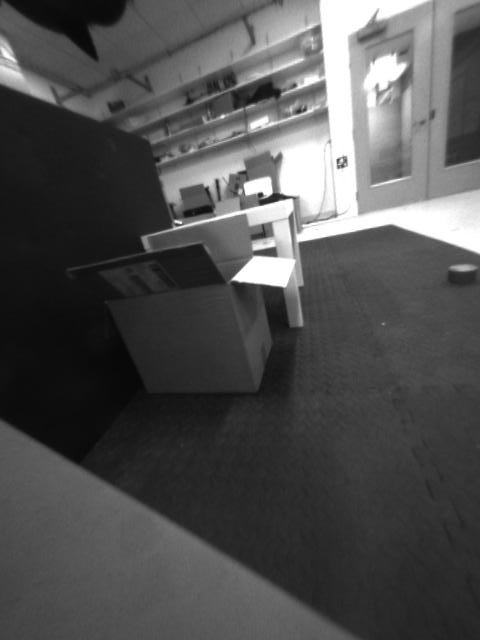dogtoy: (440, 256, 480, 295)
